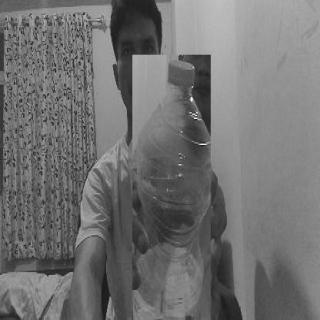plastic_bottles: (133, 54, 211, 320)
